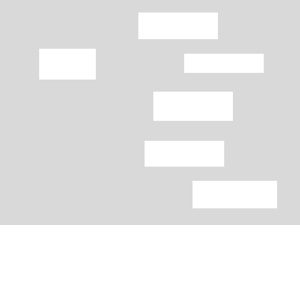square: (151, 90, 234, 123), (192, 180, 279, 209), (137, 11, 220, 41), (143, 138, 226, 168), (36, 45, 98, 82), (182, 52, 265, 75)
